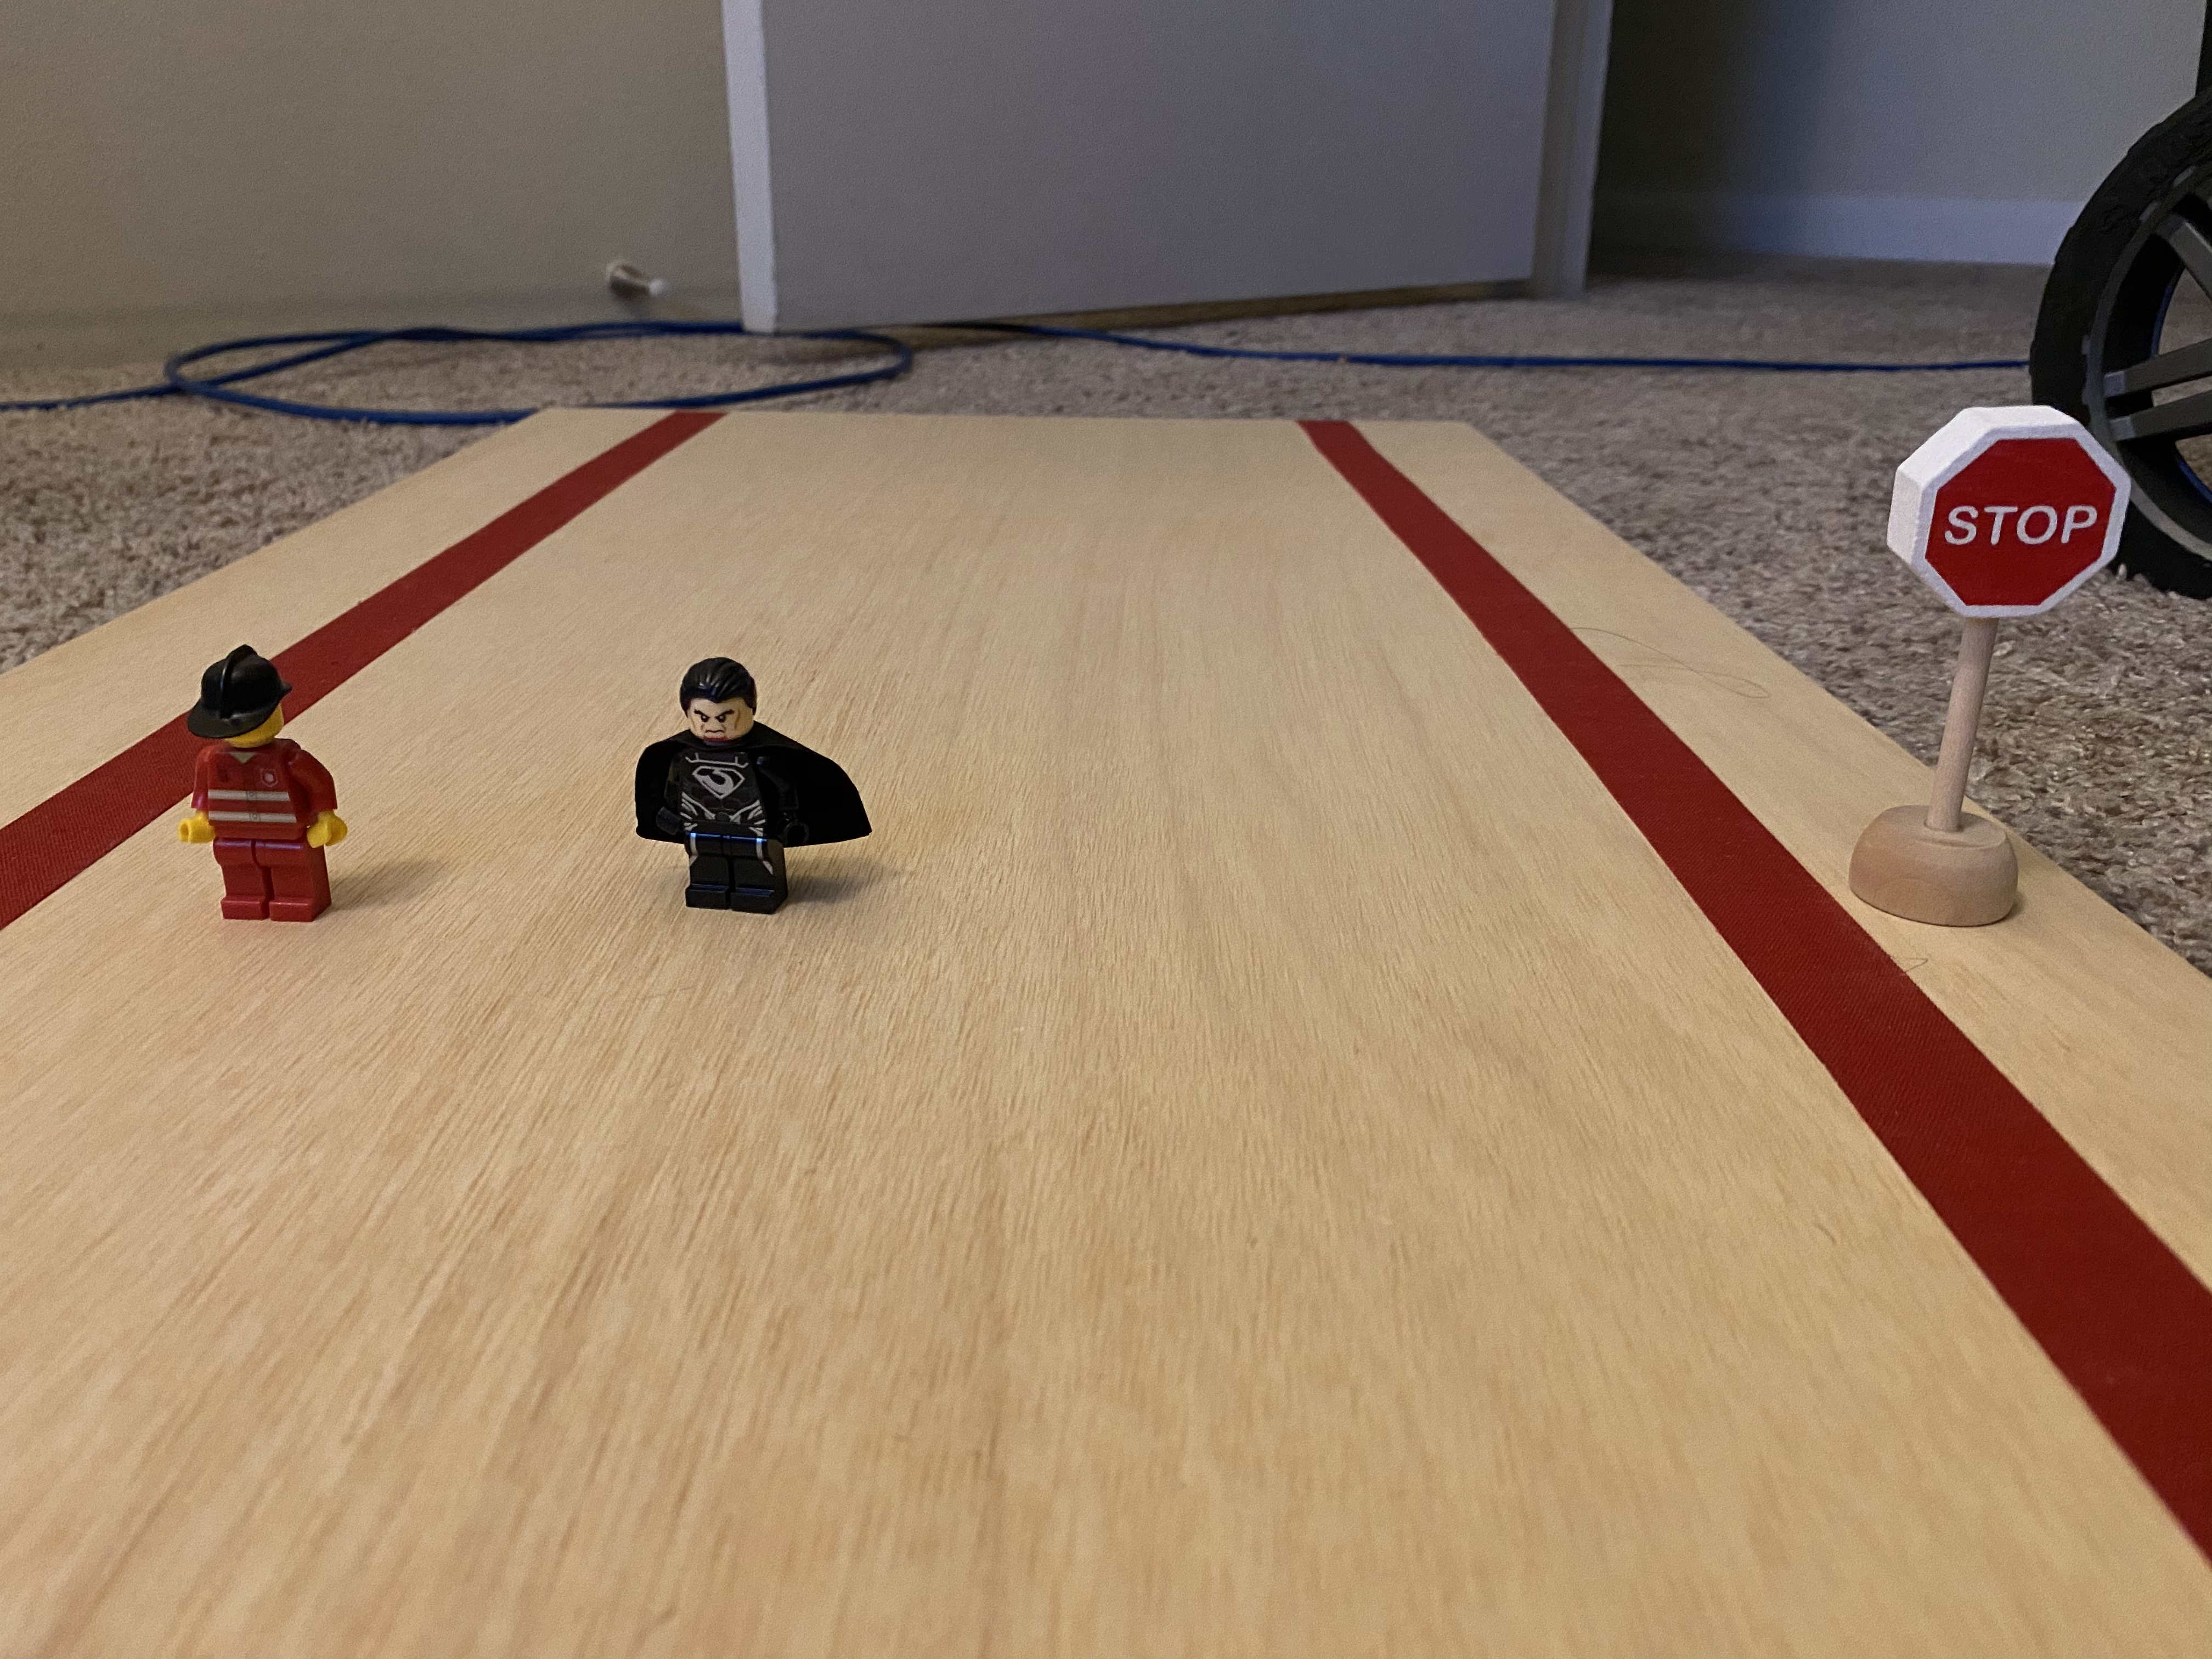Person: (585, 646, 896, 944), (141, 633, 388, 930)
Stop Sign: (1888, 399, 2144, 633)
